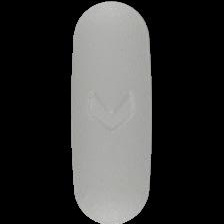16252-516: (0, 0, 224, 224)
